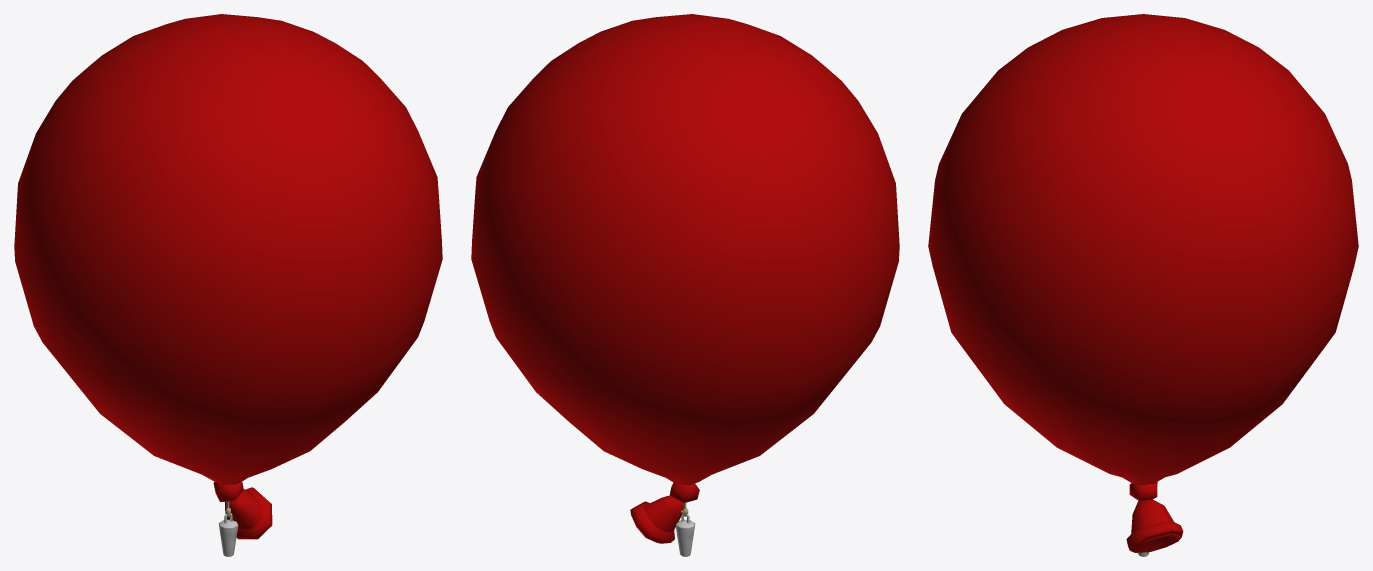
Rendered from globor.obj.
The picture shows the model from 3 angles, left to right: view 1: azimuth 30°, elevation 25°; view 2: azimuth 150°, elevation 25°; view 3: azimuth 270°, elevation 25°; orthographic projection.
Visible parts, largest first — view 1: Baloon__Mt_Balloon, String__Mt_String; view 2: Baloon__Mt_Balloon, String__Mt_String; view 3: Baloon__Mt_Balloon.
Boxes of the visible parts, left/top/right/bottom form: Baloon__Mt_Balloon: left=14, top=14, right=442, bottom=539; String__Mt_String: left=218, top=502, right=238, bottom=556; Baloon__Mt_Balloon: left=471, top=14, right=899, bottom=543; String__Mt_String: left=675, top=502, right=695, bottom=556; Baloon__Mt_Balloon: left=928, top=14, right=1358, bottom=552.
Bounding box in the file's own units: 37.99 × 50.71 × 37.99.
Materials: 2 (2 with a texture image).
